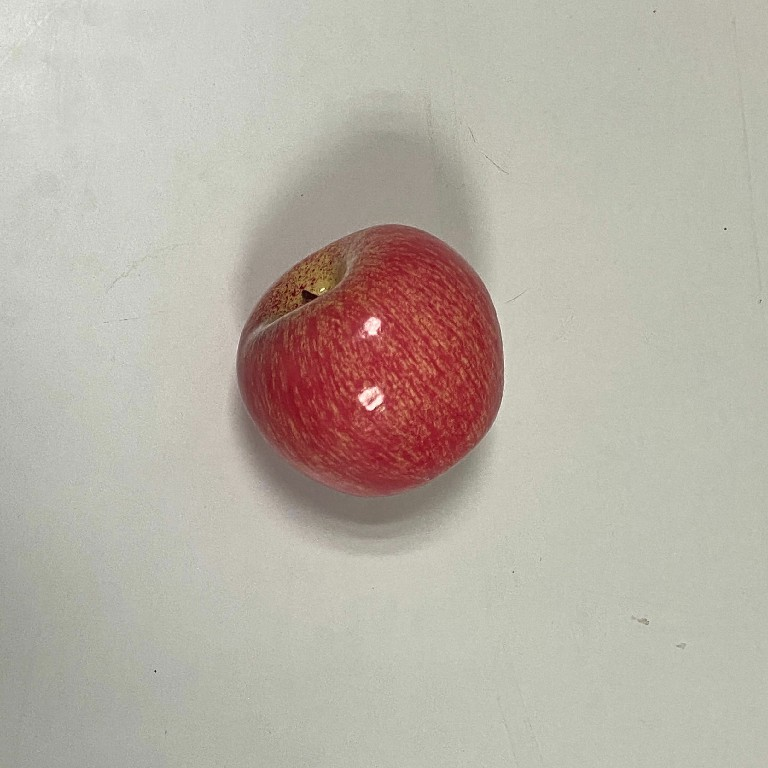fruit_apple: (232, 220, 510, 505)
